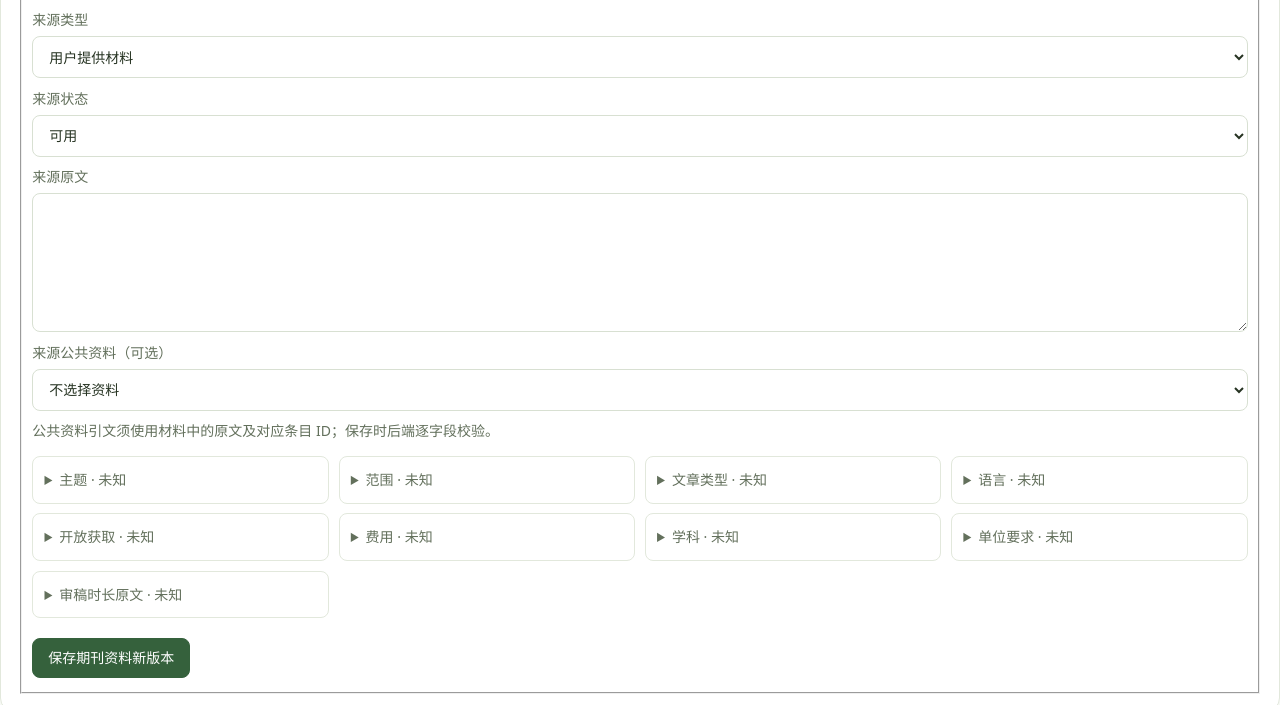
Test: recovers a failed public material preview without changing the selected frozen version
(page scrolled)
Select "Public source · document_version" in the dropdown labelled "来源公共资料（可选）" at [640, 390], box [32,368,1248,410]
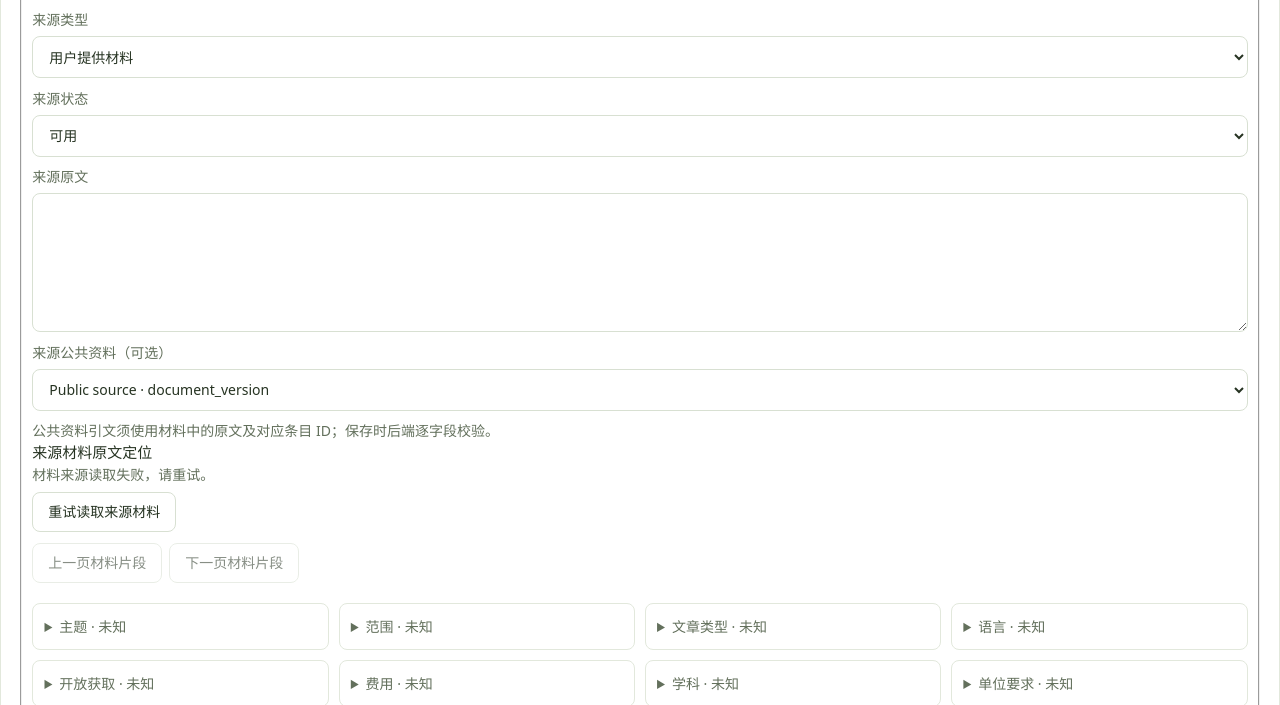
Now the message "材料来源读取失败，请重试。" is shown, box [32,465,214,484]
Click the button "重试读取来源材料".
click(104, 512)  # box [32,492,176,532]
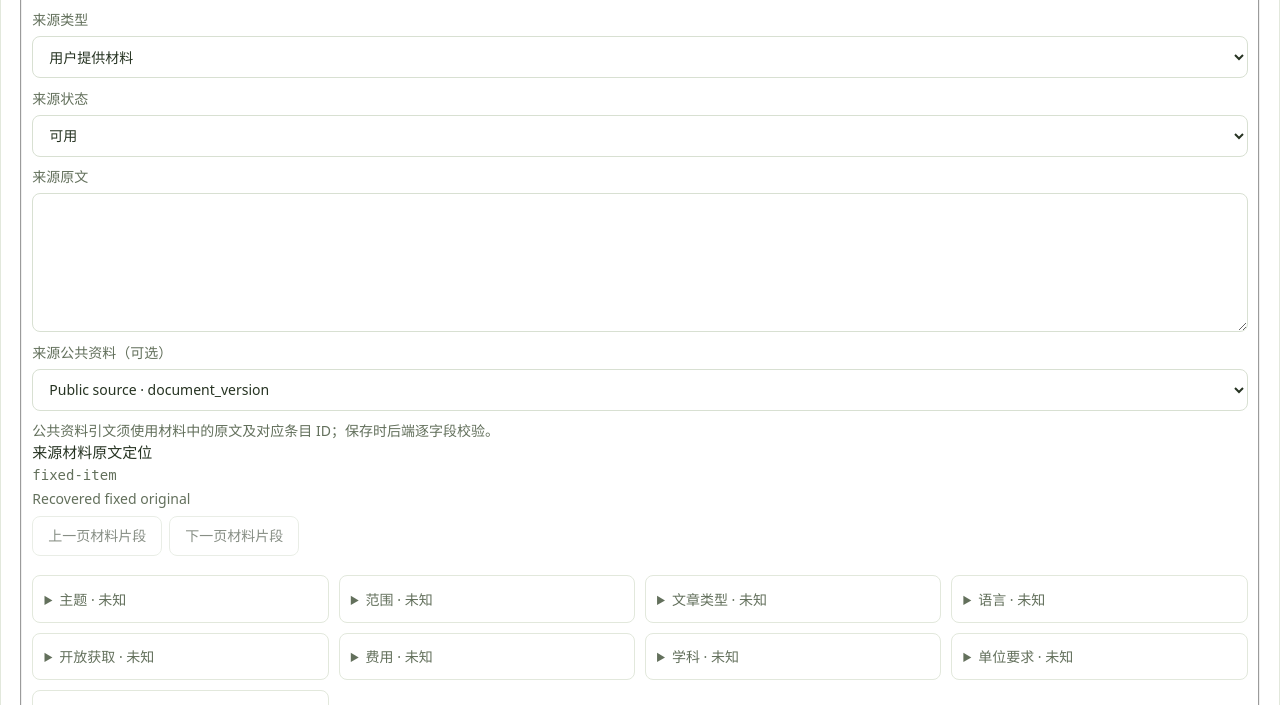
Now the text "Recovered fixed original" is shown, box [32,489,190,508]
Now the message "材料来源读取失败，请重试。" is gone
